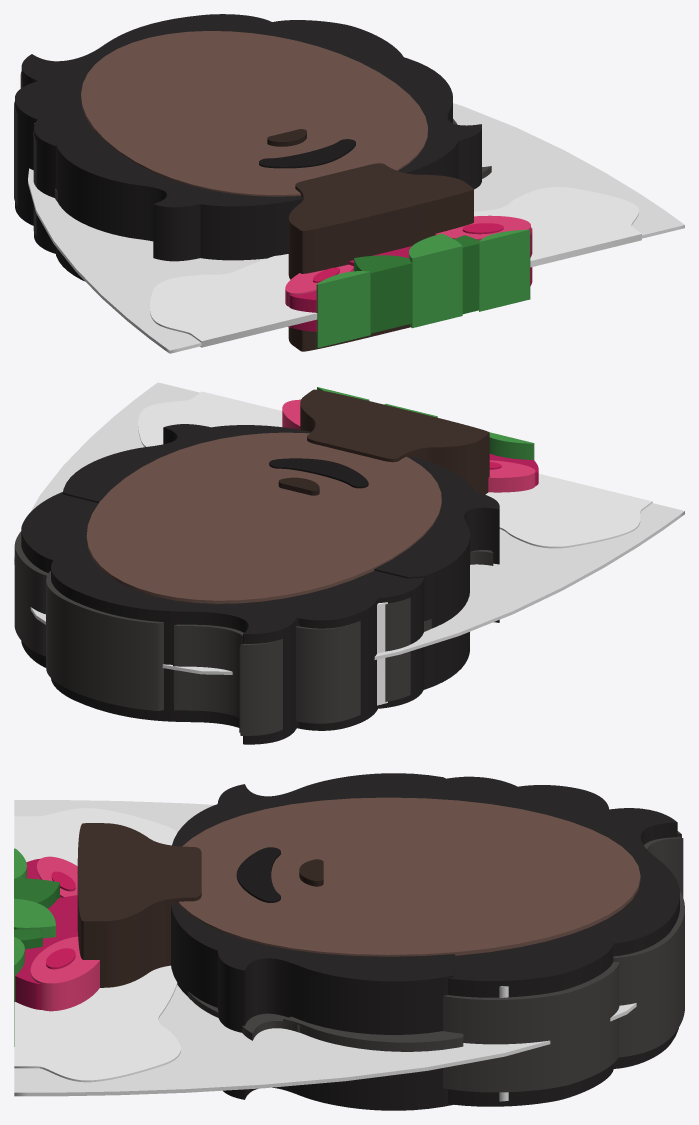
Rendered from emoji_u1f470_1f3ff.glb.
3 views of the same model, one above another, from view 1: azimuth 30°, elevation 25°; view 2: azimuth 150°, elevation 25°; view 3: azimuth 270°, elevation 25° (orthographic). The views are drawn at different scales.
Parts seen in each view (by area): view 1: emoji_u1f470_1f3ff; view 2: emoji_u1f470_1f3ff; view 3: emoji_u1f470_1f3ff.
Boxes of the visible parts, x1,y1,x2,y2 form: emoji_u1f470_1f3ff: (14,14,684,353); emoji_u1f470_1f3ff: (14,382,684,744); emoji_u1f470_1f3ff: (14,773,684,1110).
Size of the model in its own units: 0.034 by 0.0078 by 0.0329.
